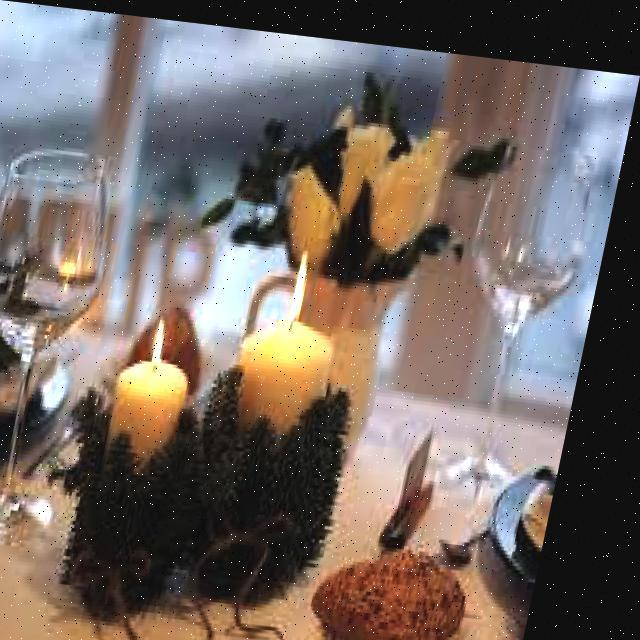Fire: (292, 238, 327, 310), (157, 307, 185, 368)
